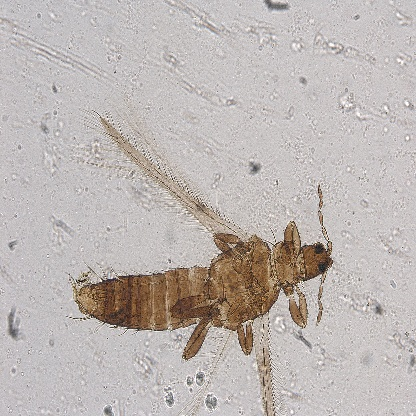Thrips: (67, 173, 337, 370)
